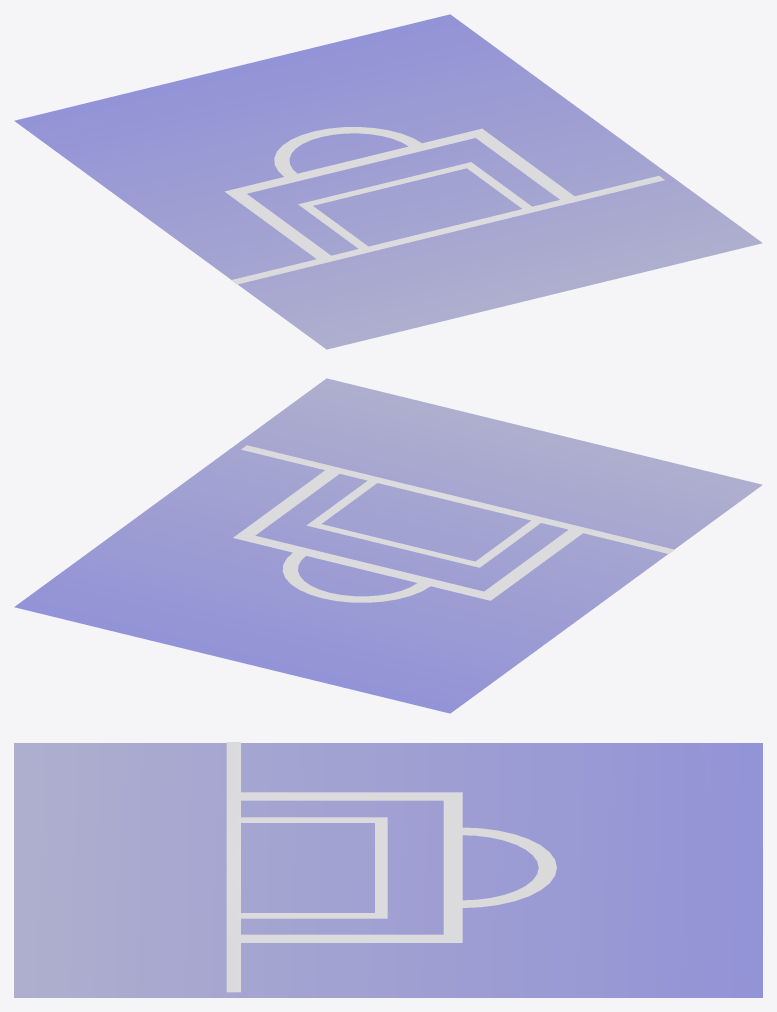
Rendered from playFloor.fbx.
3 views of the same model, one above another, from view 1: azimuth 30°, elevation 25°; view 2: azimuth 150°, elevation 25°; view 3: azimuth 270°, elevation 25° (orthographic). The views are drawn at different scales.
Visible parts, largest first — view 1: Plane.032; view 2: Plane.032; view 3: Plane.032.
Boxes of the visible parts, left/top/right/bottom form: Plane.032: left=14, top=14, right=762, bottom=349; Plane.032: left=14, top=378, right=762, bottom=713; Plane.032: left=14, top=742, right=762, bottom=997.
Size of the model in its own units: 3020 by 1.89 by 3740.
